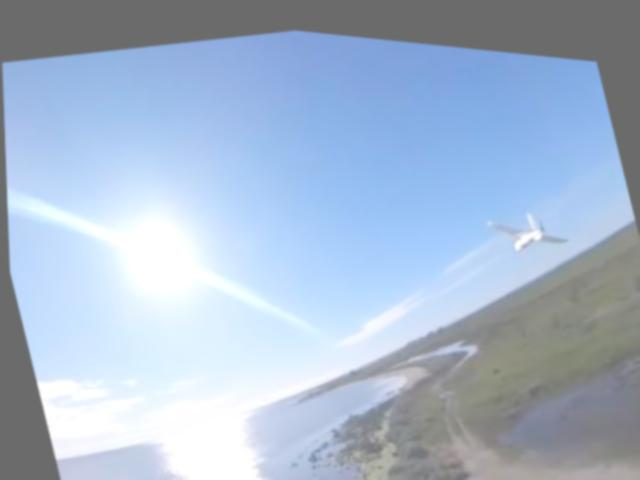uav: (486, 193, 571, 254)
